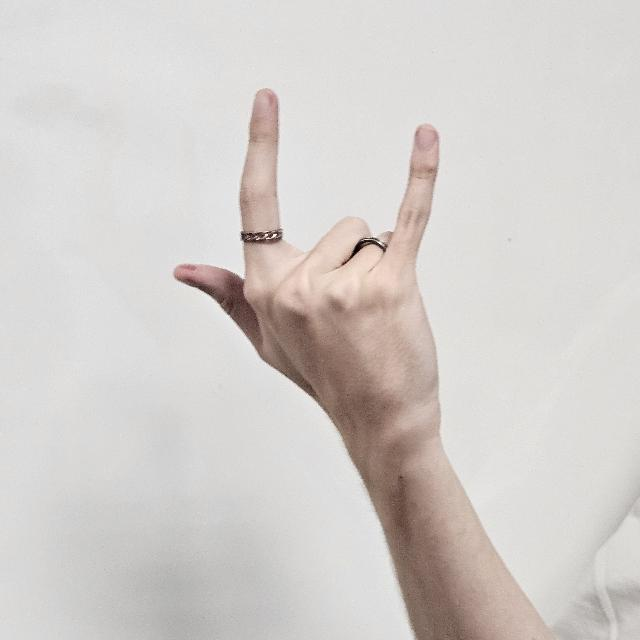Cima: (172, 88, 442, 472)
